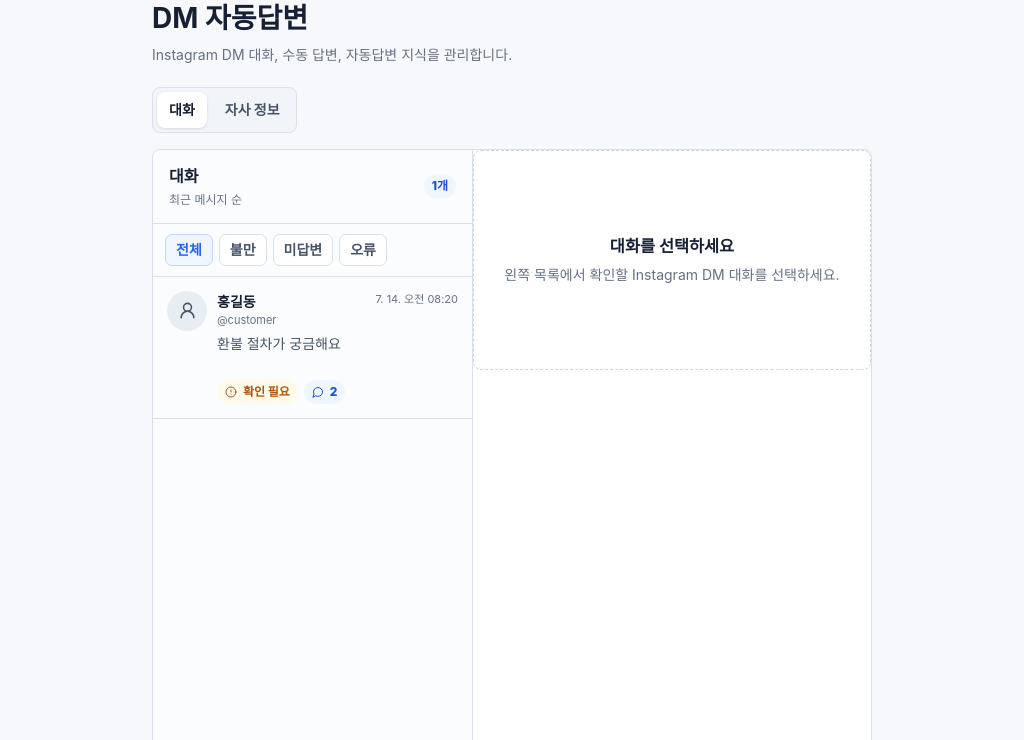
Scenario: DmAutomationPage › opens the selected conversation and shows direction and source metadata
Click the button with aria-label "홍길동 대화 열기": (312, 348) [153,277,472,419]
(page scrolled)
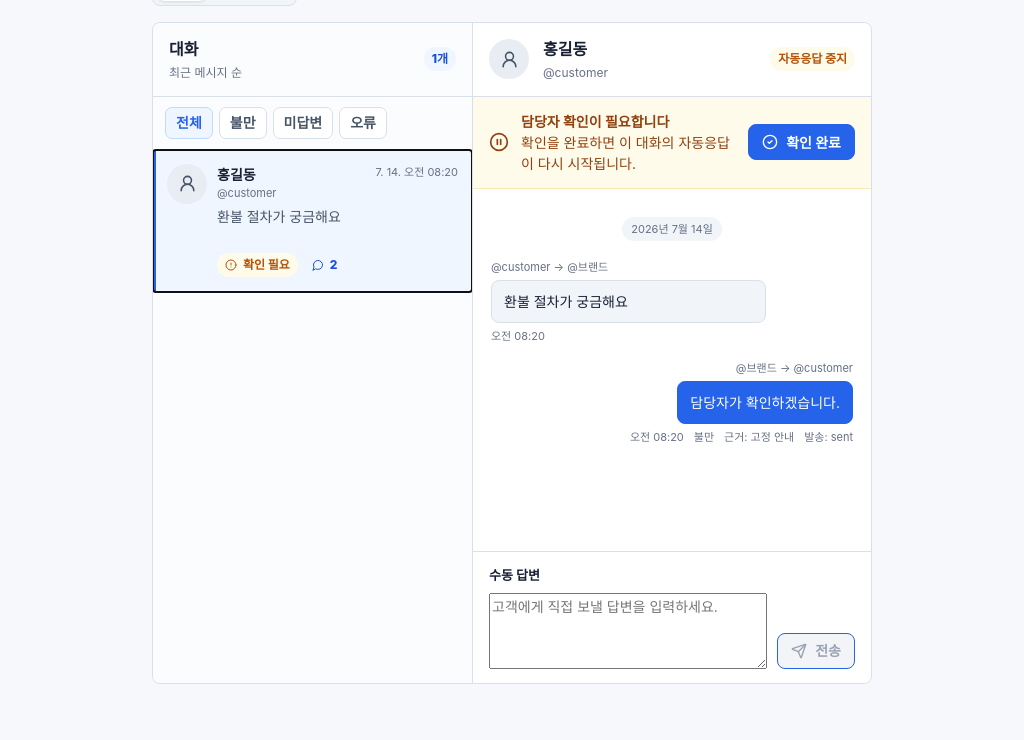
Expected: the text "@customer → @브랜드" is shown, [491,260,608,274]
Expected: the text "@브랜드 → @customer" is shown, [736,360,853,377]
Expected: the text "근거: 고정 안내" is shown, [724,429,794,445]
